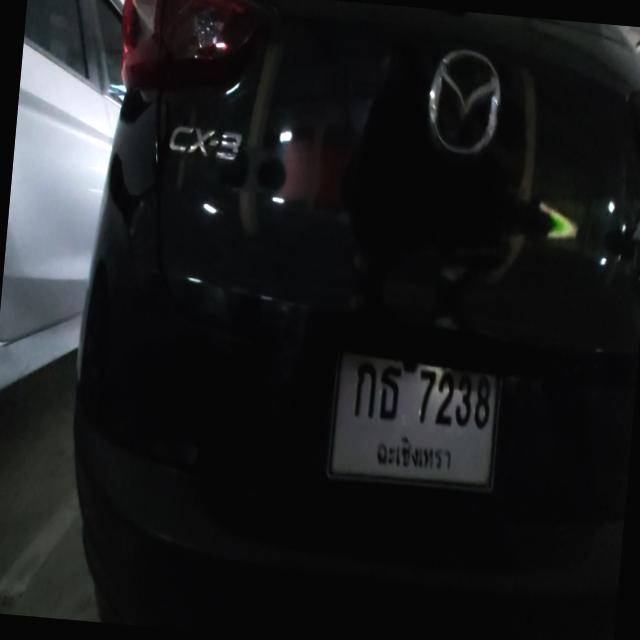license_plate: (327, 352, 498, 489)
